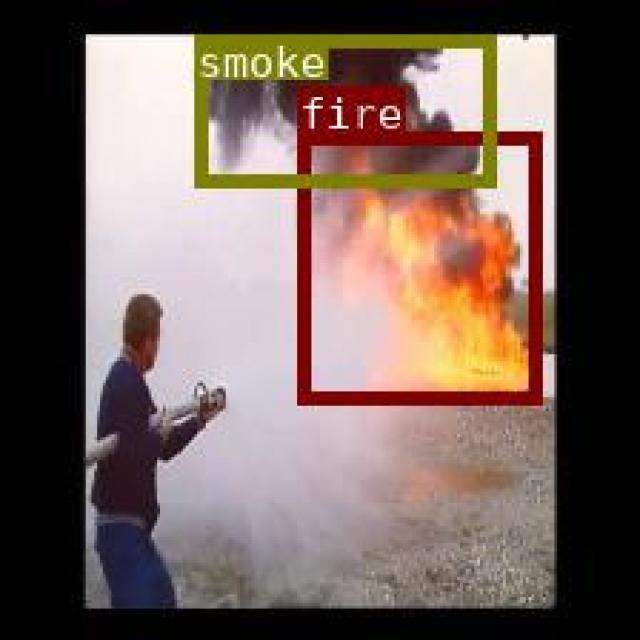fire: (297, 130, 538, 403)
smoke: (192, 33, 493, 185)
